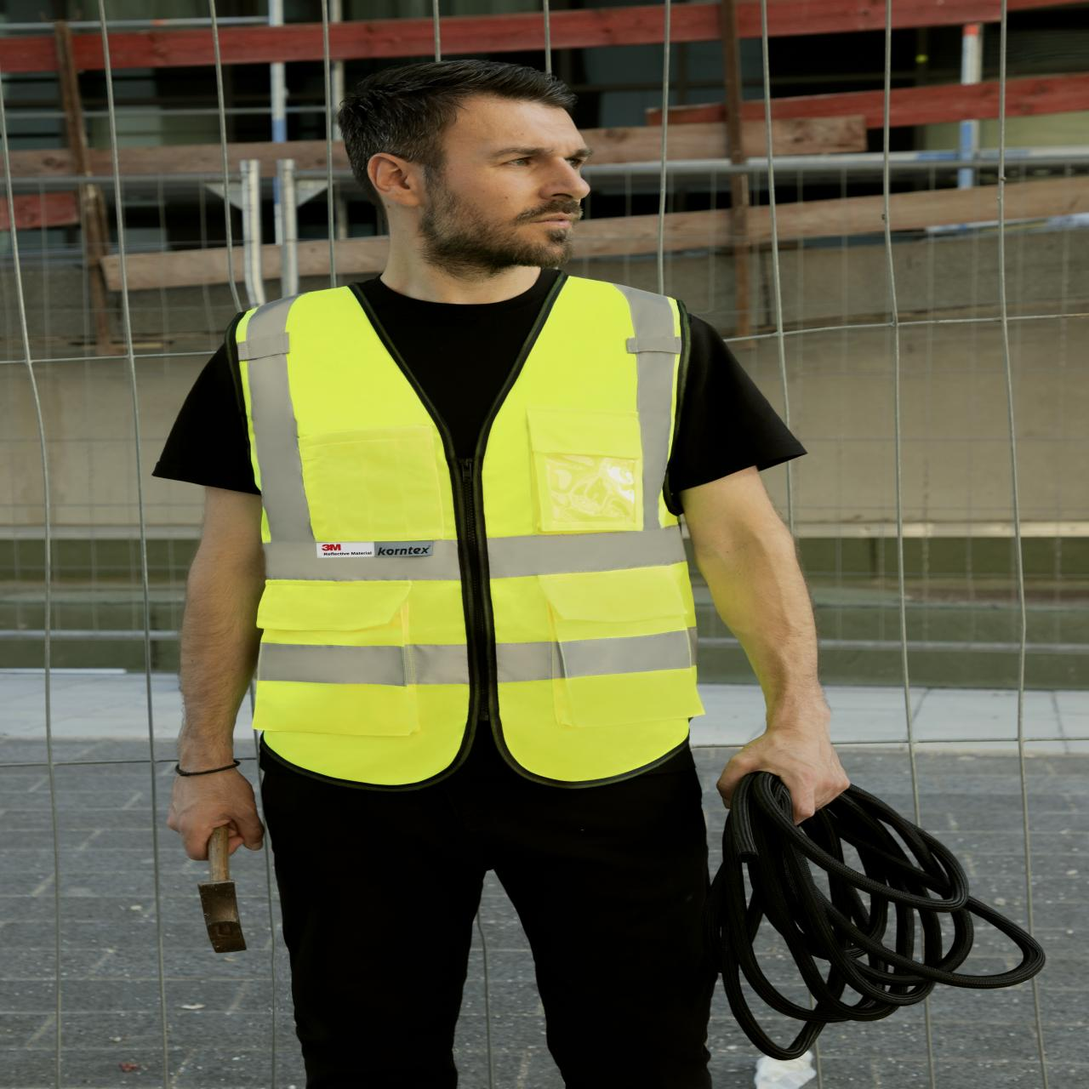Person: (99, 47, 901, 1089)
Safety_Vest: (209, 264, 739, 791)
